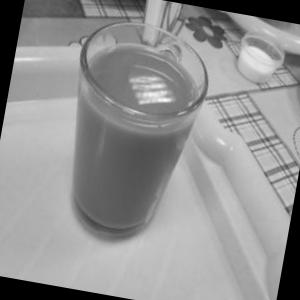coffee: (42, 3, 206, 242)
